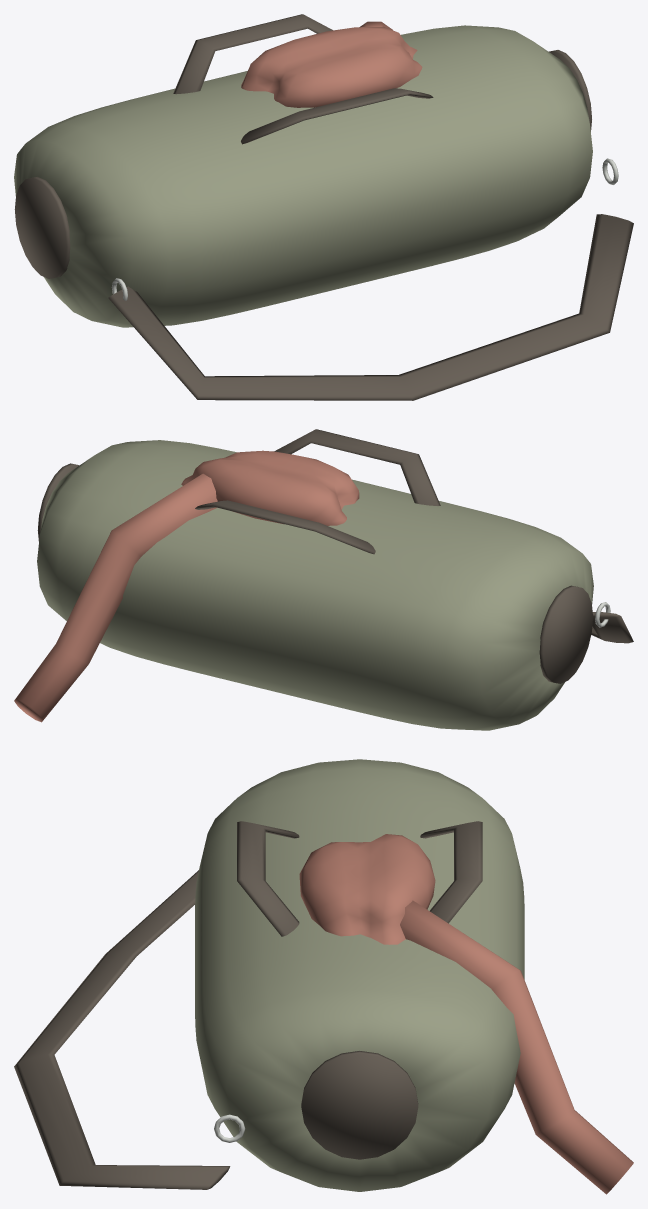
File: ss_duffel.glb
3 views of the same model, one above another, from view 1: azimuth 30°, elevation 25°; view 2: azimuth 150°, elevation 25°; view 3: azimuth 270°, elevation 25° (orthographic). The views are drawn at different scales.
Visible parts, largest first — view 1: ss_duffel; view 2: ss_duffel; view 3: ss_duffel.
Part boxes in pixels (left/top/right/bottom): ss_duffel: left=14, top=14, right=633, bottom=400; ss_duffel: left=14, top=429, right=633, bottom=730; ss_duffel: left=14, top=759, right=633, bottom=1194.
Size of the model in its own units: 0.634 by 0.2566 by 0.5713.
